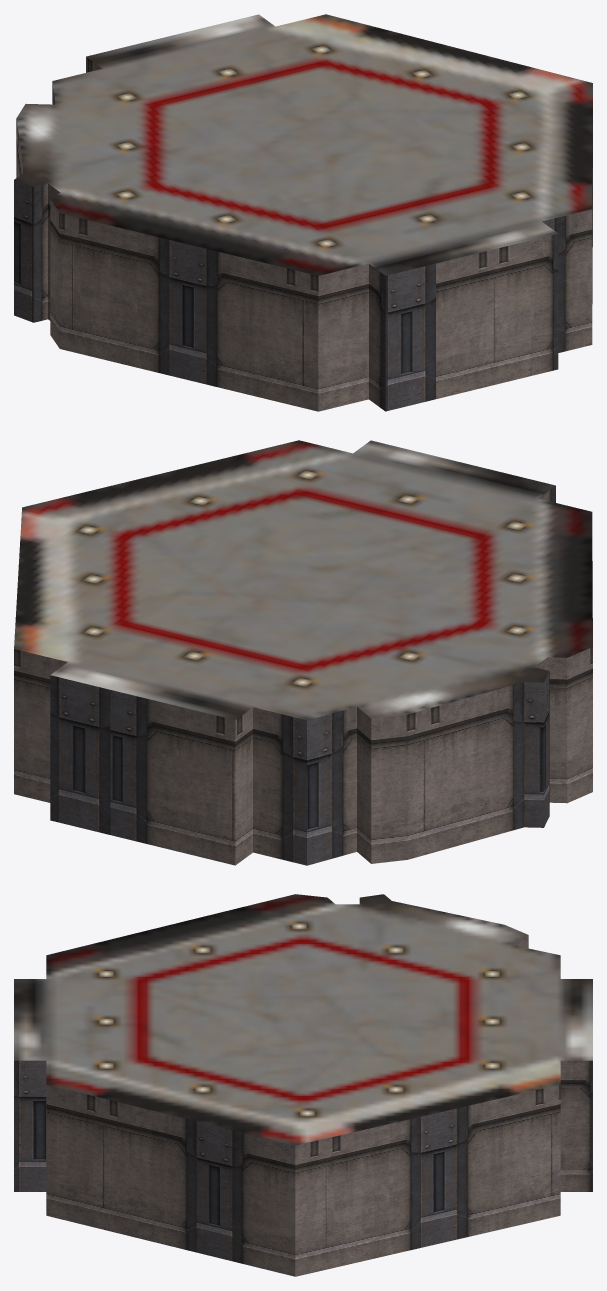
Rendered from bsealed_medium_41.glb.
3 renders of one model, top to bottom at view 1: azimuth 30°, elevation 25°; view 2: azimuth 150°, elevation 25°; view 3: azimuth 270°, elevation 25°, orthographic. The views are drawn at different scales.
Parts seen in each view (by area): view 1: buildings/saxarba/bsealed_medium/bsealed_medium_41; view 2: buildings/saxarba/bsealed_medium/bsealed_medium_41; view 3: buildings/saxarba/bsealed_medium/bsealed_medium_41.
Part boxes in pixels (x1=…): buildings/saxarba/bsealed_medium/bsealed_medium_41: x1=14, y1=14, x2=592, y2=411; buildings/saxarba/bsealed_medium/bsealed_medium_41: x1=14, y1=440, x2=592, y2=865; buildings/saxarba/bsealed_medium/bsealed_medium_41: x1=14, y1=894, x2=592, y2=1276.
Bounding box in the file's own units: 74 × 18 × 72.
